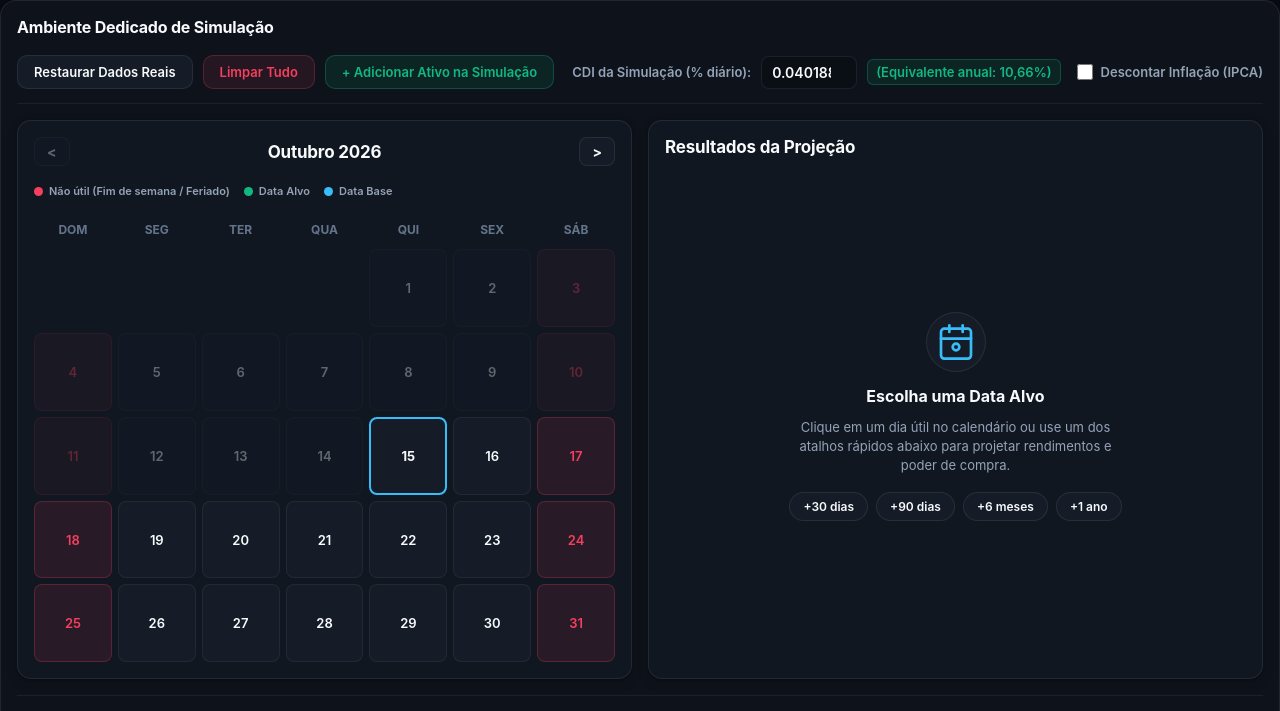
Test: SimulationArea Component › selecting a target date calculates projection and real metrics
Click on target date 20 (future business day in October 2026)
Click the text "20" at (241, 540), box [232,532,249,548]
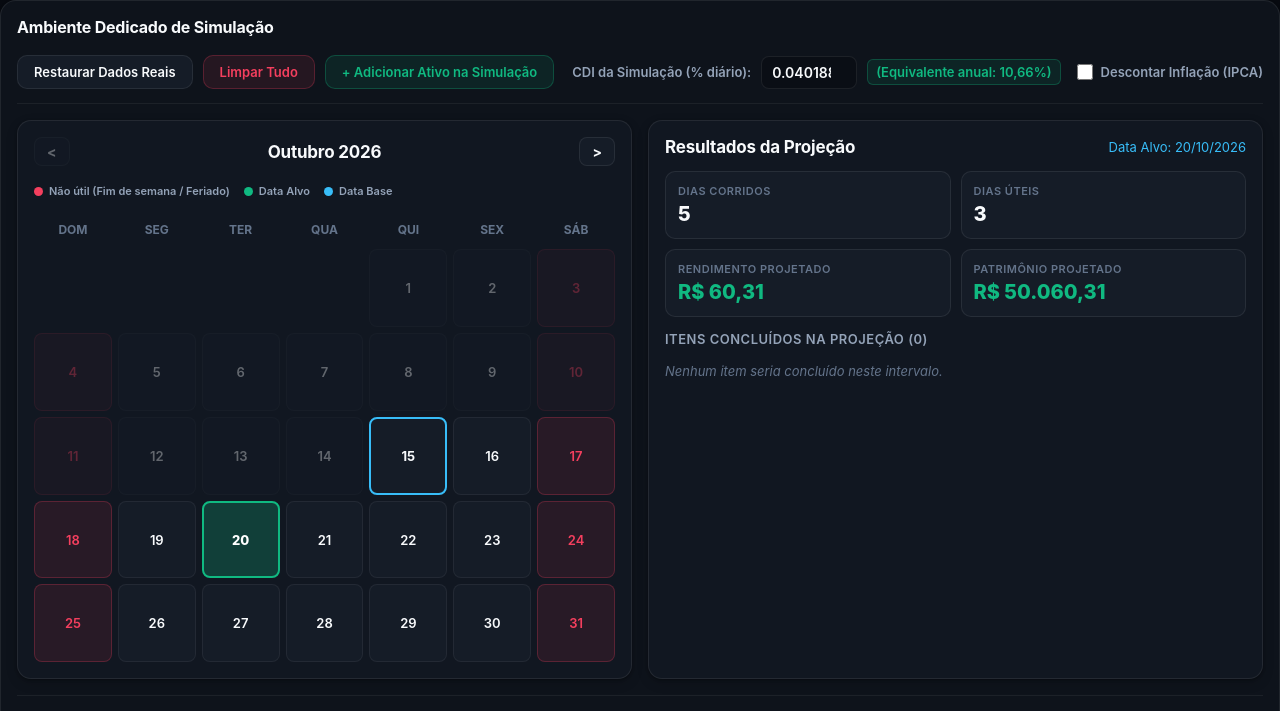
Check: the text "Dias Corridos" is shown, box [678,184,771,198]
Check: the text "Dias Úteis" is shown, box [974,184,1040,198]
Check: the text "Rendimento Projetado" is shown, box [678,262,831,276]
